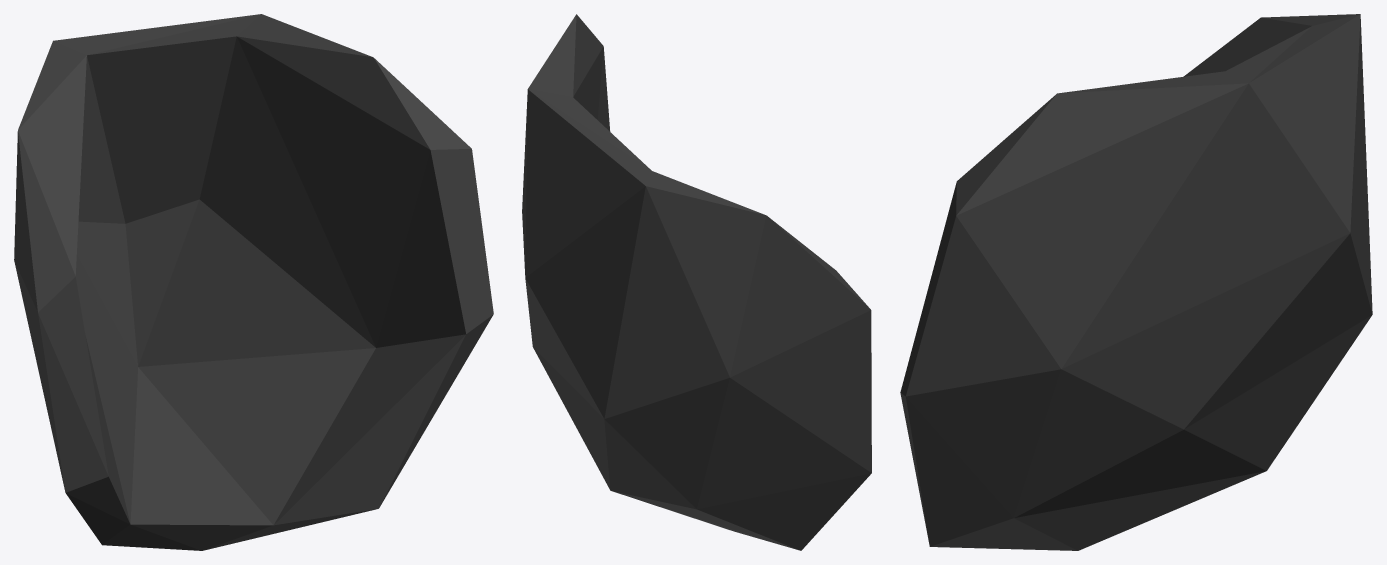
Rendered from Femur_lesser_trochanter.glb.
3 views of the same model, side by side, from view 1: azimuth 30°, elevation 25°; view 2: azimuth 150°, elevation 25°; view 3: azimuth 270°, elevation 25° (orthographic). The views are drawn at different scales.
Parts seen in each view (by area): view 1: Femur_lesser_trochanter; view 2: Femur_lesser_trochanter; view 3: Femur_lesser_trochanter.
Part boxes in pixels (bbox=[...]): Femur_lesser_trochanter: bbox=[14, 14, 493, 550]; Femur_lesser_trochanter: bbox=[522, 14, 871, 550]; Femur_lesser_trochanter: bbox=[900, 14, 1372, 550].
Bounding box in the file's own units: 0.0104 × 0.0124 × 0.00963.
Materials: 1 (1 with a texture image).
